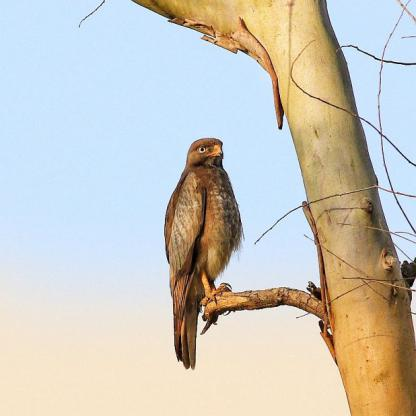Burung: (155, 134, 246, 370)
